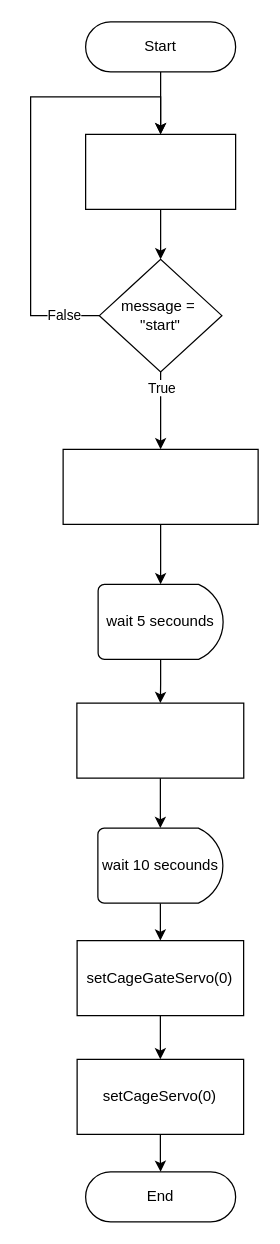
The diagram is 280 pixels wide and 1244 high, and some of its shapes have lost their labels. The shapes that lost their labels are listed below. From the top down, each one's centre as x and y in pixels, then its label:
At point 160,171: "Listen on I2C set message".
At point 160,486: "setCageServo(90)".
At point 160,740: "setCageGateServo(90)".
